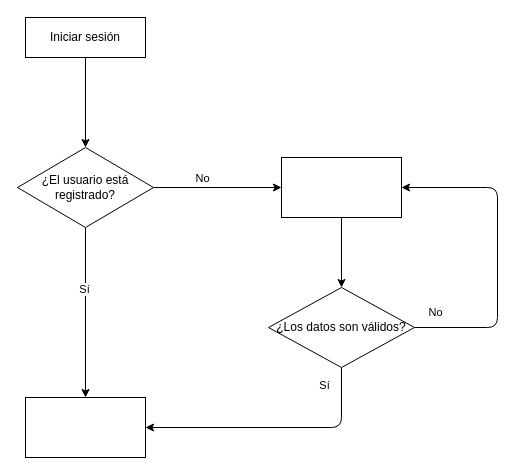
This 523x475 diagram has some shape labels left out. The shapes that lost their labels are listed below. From the top down, each one's centre as x and y in pixels, then its label:
the point at 341,187: Pantalla de registro
the point at 85,427: Pantalla principal
